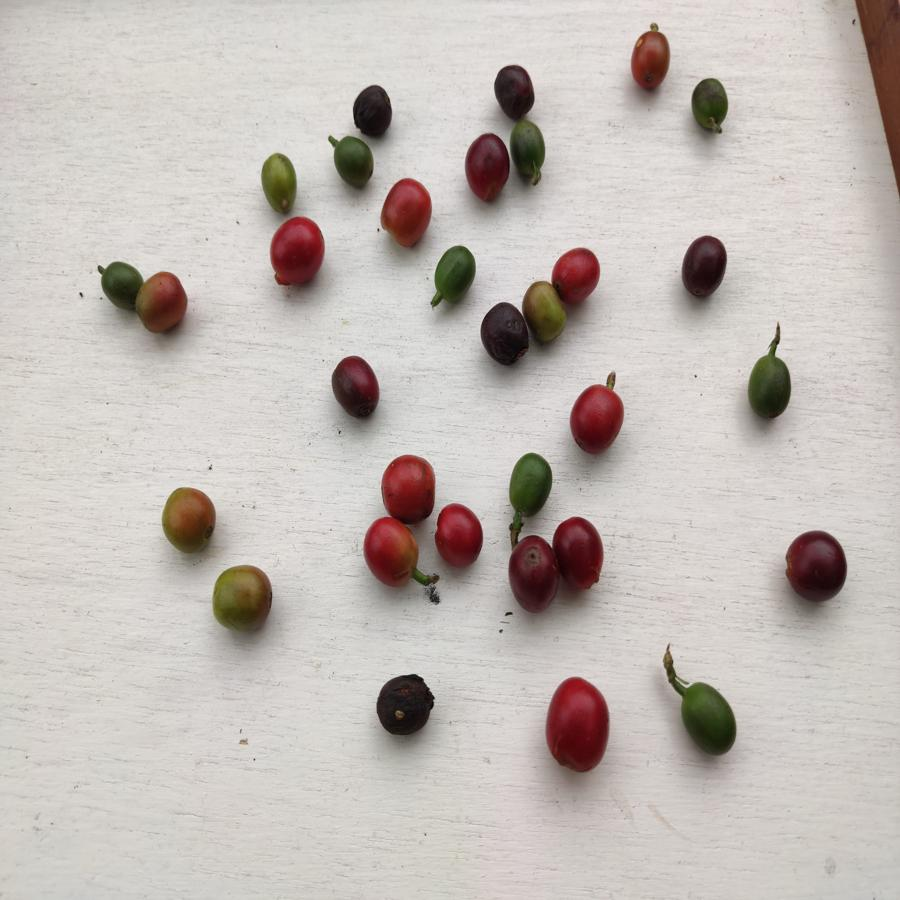Inmaduro: (678, 678, 738, 756), (746, 353, 797, 421), (505, 450, 554, 519), (433, 243, 476, 303), (689, 78, 732, 134), (508, 121, 548, 181), (98, 257, 139, 312), (329, 138, 375, 187)
Maduro: (543, 675, 613, 778), (361, 518, 423, 592), (379, 452, 437, 524), (270, 216, 326, 290), (569, 382, 626, 454), (379, 178, 433, 248), (435, 505, 484, 568), (466, 133, 508, 203), (553, 248, 602, 303)
Pinton: (209, 566, 277, 633), (158, 488, 221, 555), (138, 269, 192, 332), (630, 28, 673, 92), (525, 279, 565, 346), (259, 152, 299, 213)
Sobremaduro: (781, 527, 848, 605), (553, 515, 607, 594), (330, 353, 387, 426), (509, 532, 558, 616), (377, 674, 433, 737), (479, 301, 528, 368), (679, 233, 728, 300), (351, 83, 393, 143), (493, 65, 538, 119)
